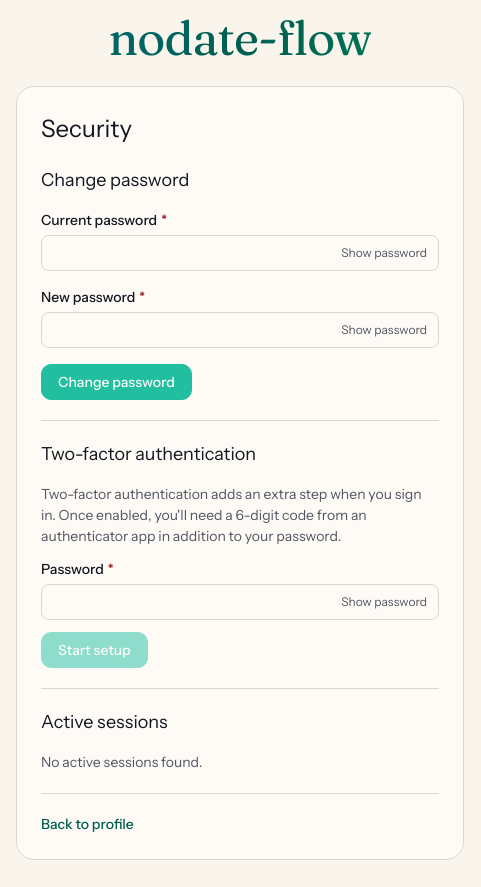
Test: two-factor enrollment re-authentication › falls back to the generic setup message for a refusal it cannot classify
Type "hunter2" into the password field labelled "Password*" at (240, 602), box [41,584,439,620]
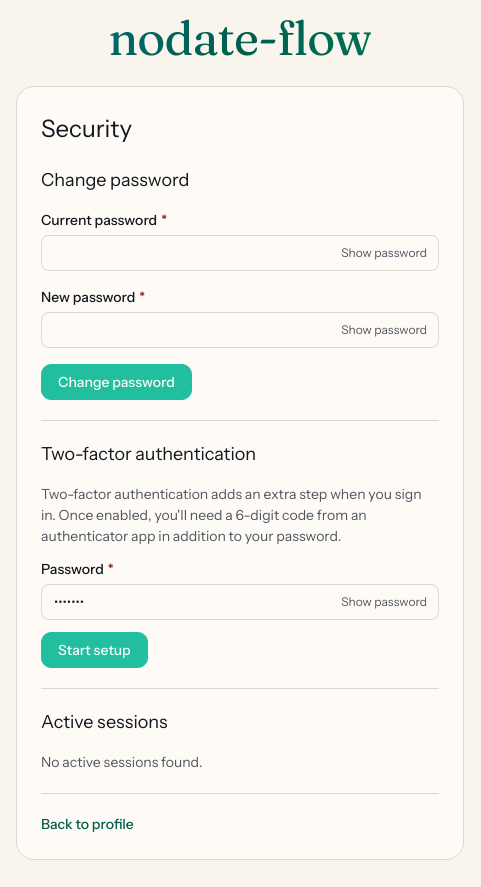
Click the button "Start setup" at (94, 650), box [41,632,148,668]
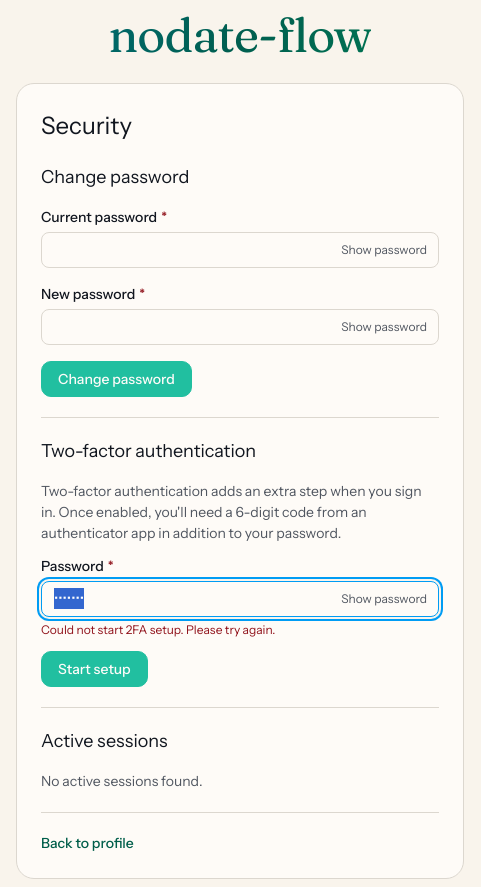
Result: the text "Could not start 2FA setup. Please try again." is shown at [41,622,275,637]
